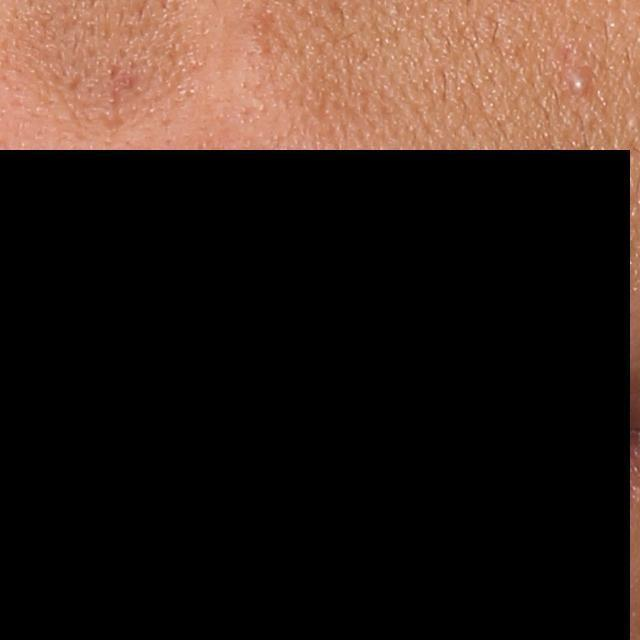atrophic_scar: (100, 62, 142, 144), (61, 69, 88, 96)
pustule: (568, 67, 588, 95)
